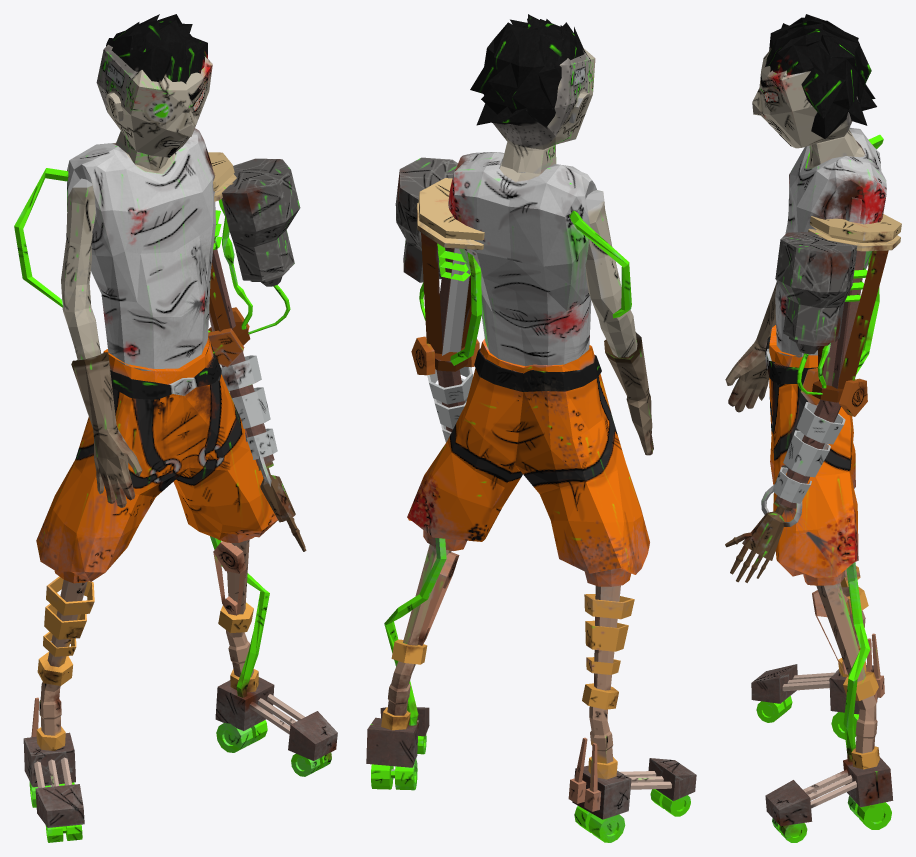
The model's file is CyborgFINALAnimation_000042.obj.
The picture shows the model from 3 angles, left to right: view 1: azimuth 30°, elevation 25°; view 2: azimuth 150°, elevation 25°; view 3: azimuth 270°, elevation 25°; orthographic projection. The views are drawn at different scales.
Visible parts, largest first — view 1: CyborgMesh_Cube.002; view 2: CyborgMesh_Cube.002; view 3: CyborgMesh_Cube.002.
Part boxes in pixels (bbox=[...]): CyborgMesh_Cube.002: bbox=[14, 14, 337, 842]; CyborgMesh_Cube.002: bbox=[366, 14, 696, 842]; CyborgMesh_Cube.002: bbox=[725, 14, 901, 842].
Size of the model in its own units: 3.85 by 9.66 by 2.06.
